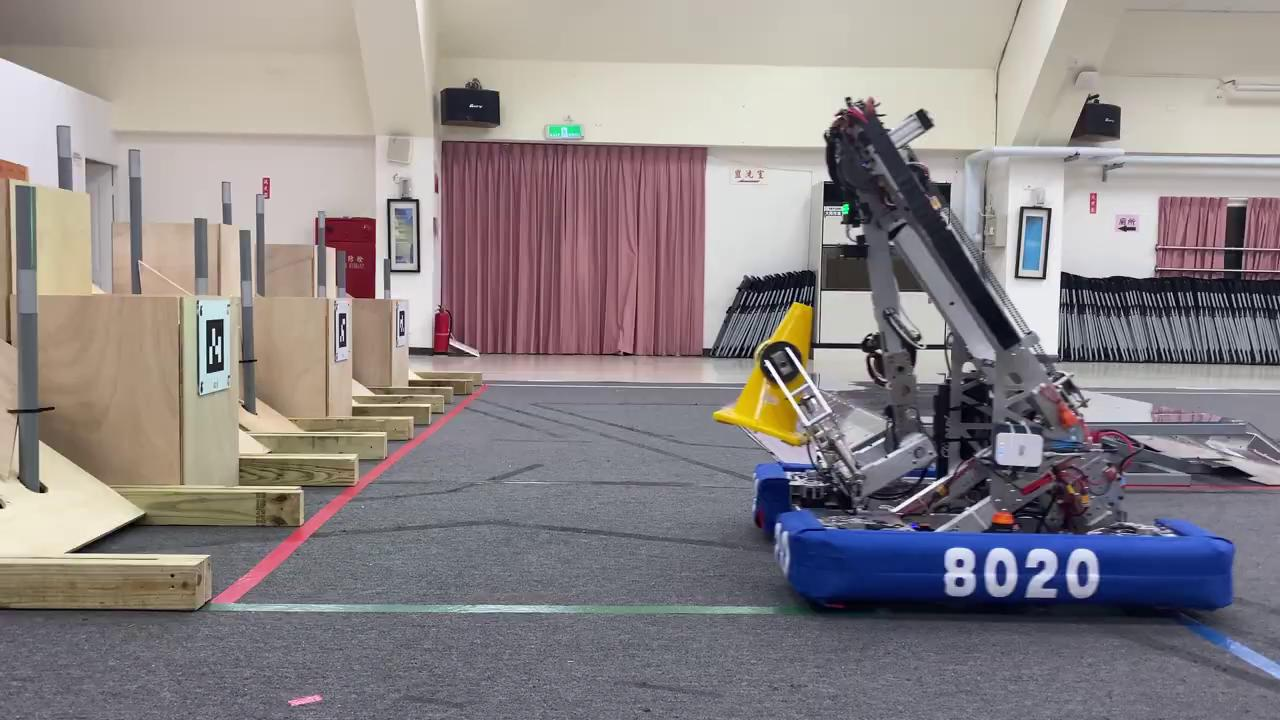robot: (739, 93, 1251, 624)
